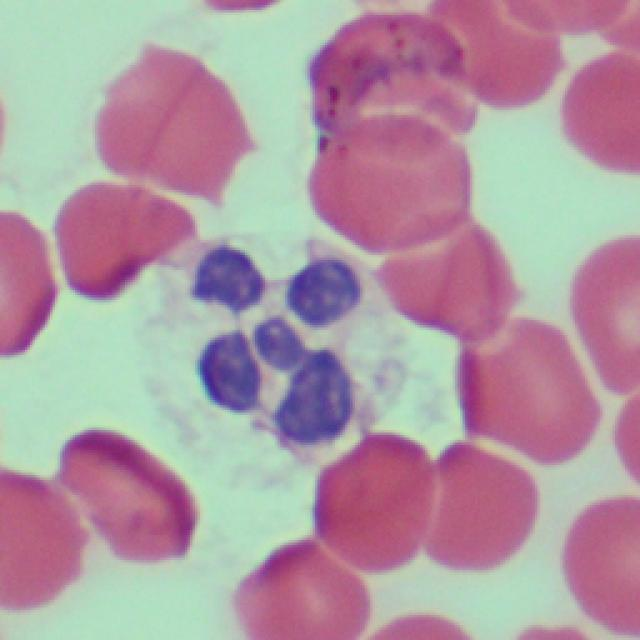RBC: (305, 8, 475, 256), (96, 34, 247, 210), (452, 312, 600, 474), (62, 420, 199, 570), (304, 429, 431, 581), (372, 205, 510, 340), (406, 439, 540, 576), (47, 174, 158, 312), (432, 2, 562, 114), (228, 536, 368, 638), (0, 440, 77, 614), (566, 227, 640, 390), (560, 497, 640, 631), (560, 45, 640, 170), (0, 193, 51, 364), (343, 610, 485, 640)
